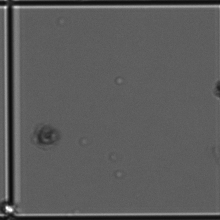Dead Cell: (36, 123, 63, 149)
Living Cell: (1, 197, 22, 215)
